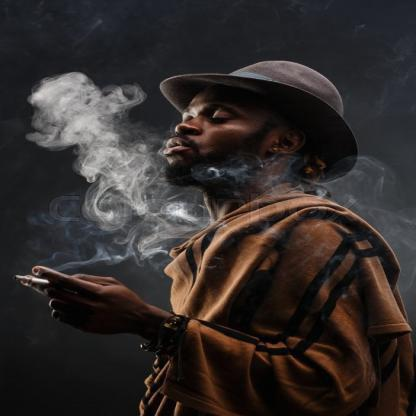cigarette: (18, 274, 52, 288)
person: (145, 58, 404, 416)
smoke: (22, 72, 164, 223), (63, 195, 189, 274)
